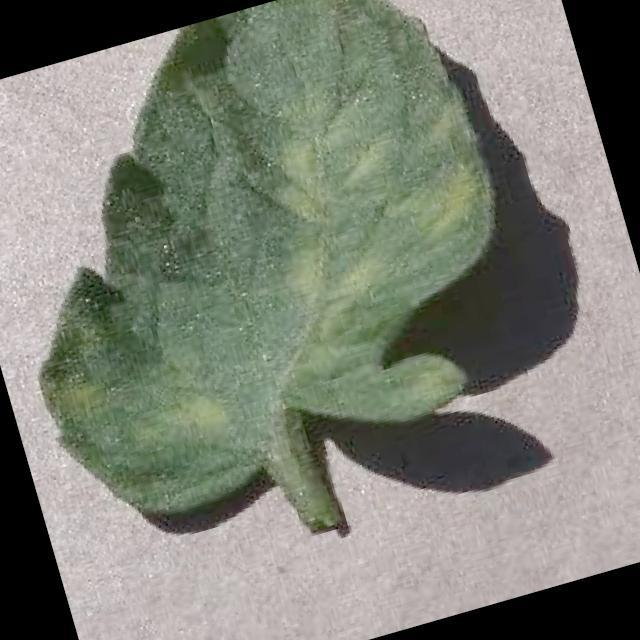Tomato mold leaf: (0, 0, 553, 531)
